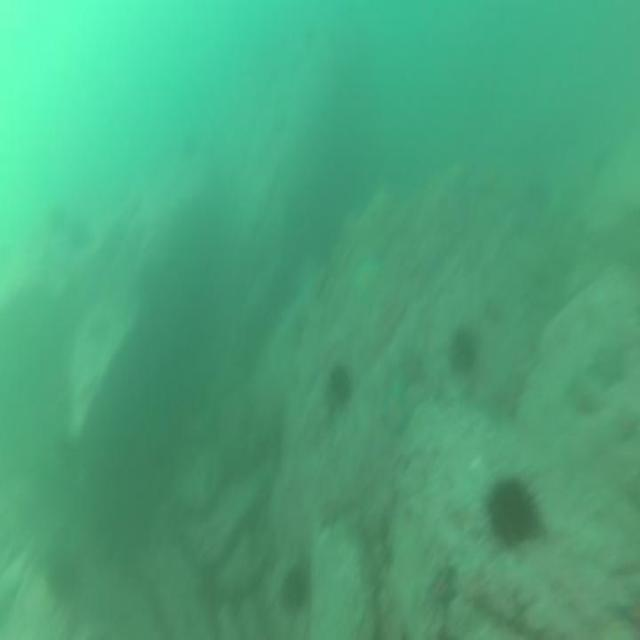echinus: (482, 468, 543, 556), (445, 322, 482, 384), (278, 564, 310, 621), (326, 360, 356, 412)
starfish: (392, 338, 429, 398), (588, 342, 628, 394), (432, 566, 460, 621), (316, 492, 346, 536)
